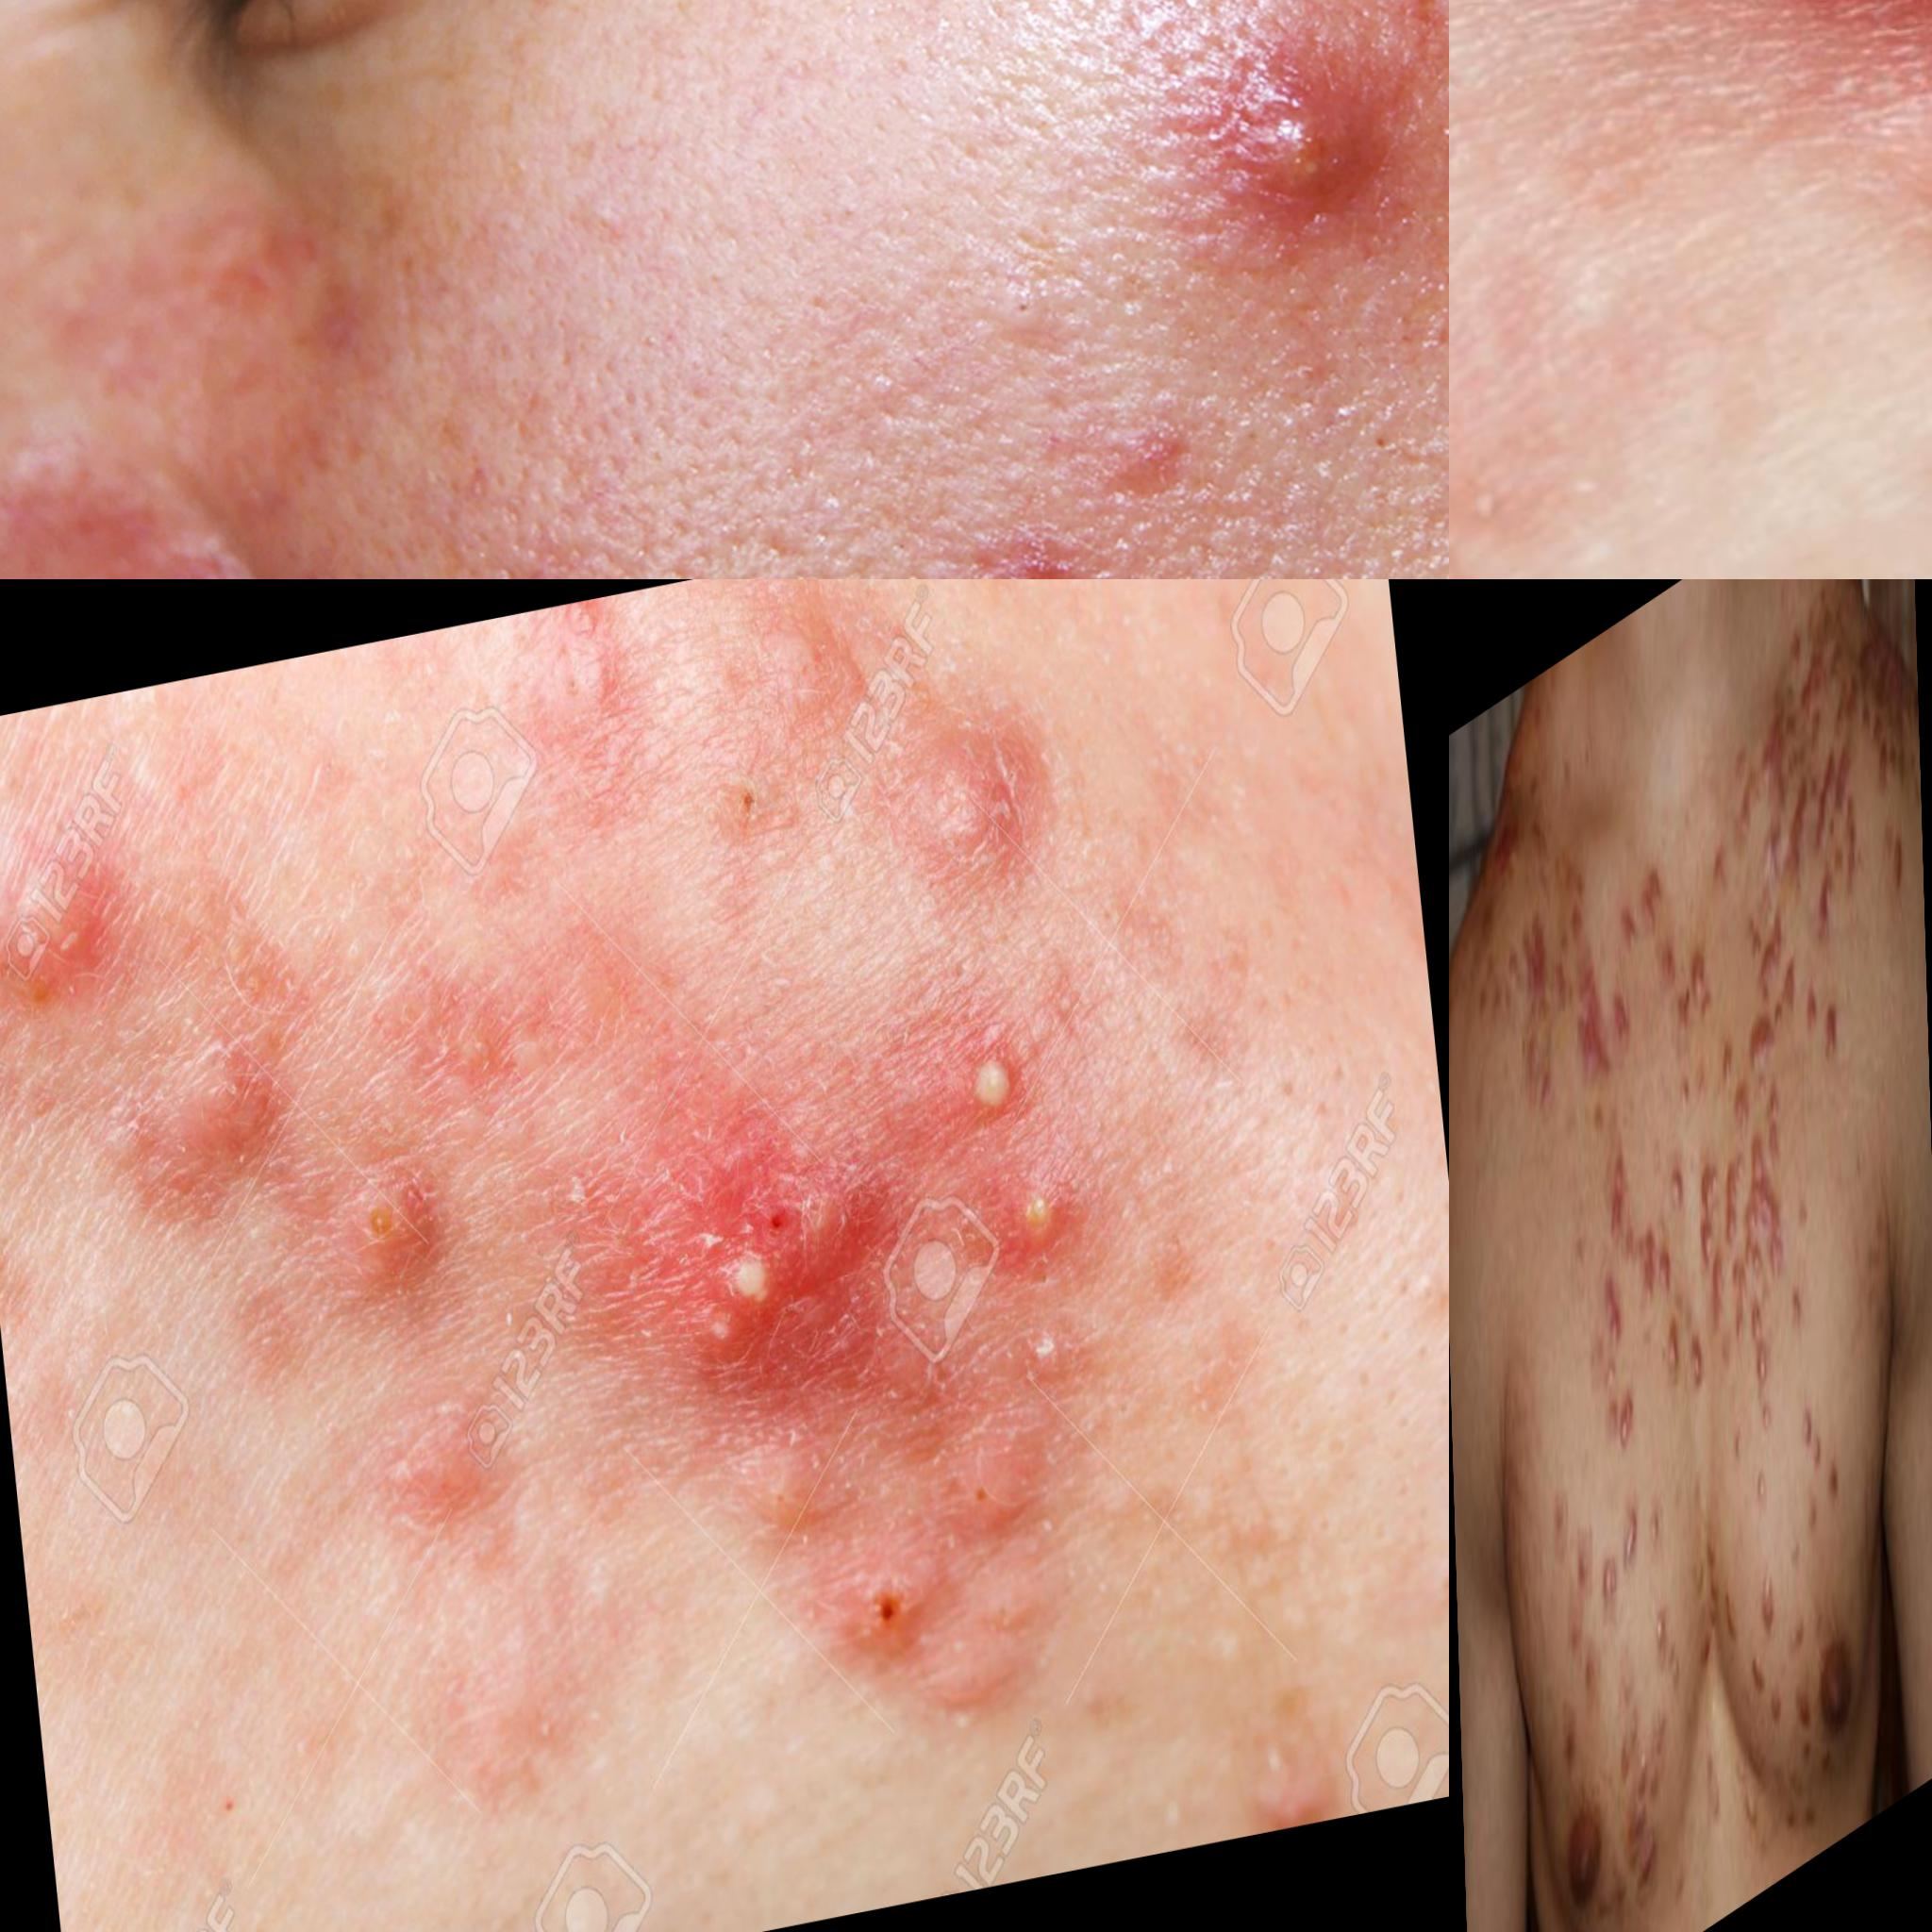acne_scars: (968, 490, 1127, 580), (1361, 2, 1451, 108)
cystic: (2, 805, 126, 1056), (157, 996, 294, 1171), (326, 1138, 448, 1292), (994, 1143, 1076, 1279), (957, 1024, 1033, 1155)
keloid: (1516, 832, 1617, 1180), (1723, 1077, 1794, 1334), (1730, 690, 1798, 858), (1608, 1123, 1660, 1339), (1799, 594, 1863, 764), (1813, 738, 1859, 955), (1668, 1010, 1741, 1146), (1656, 1162, 1693, 1408), (1799, 941, 1845, 1100), (1617, 844, 1665, 987), (1691, 1513, 1732, 1681), (1744, 1539, 1783, 1713), (1622, 1771, 1665, 1923), (1601, 1316, 1642, 1474), (1700, 1116, 1727, 1346), (1599, 1497, 1642, 1624), (1677, 918, 1716, 1053), (1748, 878, 1787, 993), (1608, 970, 1635, 1090), (1744, 993, 1778, 1085), (1884, 800, 1909, 915), (1799, 1394, 1824, 1483), (1651, 1583, 1672, 1681), (1647, 1470, 1667, 1564)
papular: (819, 1522, 1056, 1737), (901, 715, 1046, 906), (734, 580, 878, 750), (936, 1410, 1067, 1564), (727, 1403, 844, 1559)
sebo-crystan-conglo: (663, 1120, 901, 1384), (1194, 48, 1415, 272)
